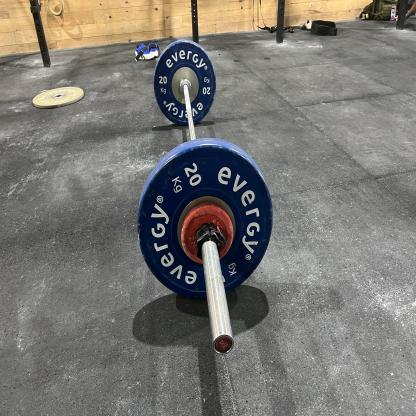barbell: (138, 140, 275, 304), (154, 40, 218, 127)
